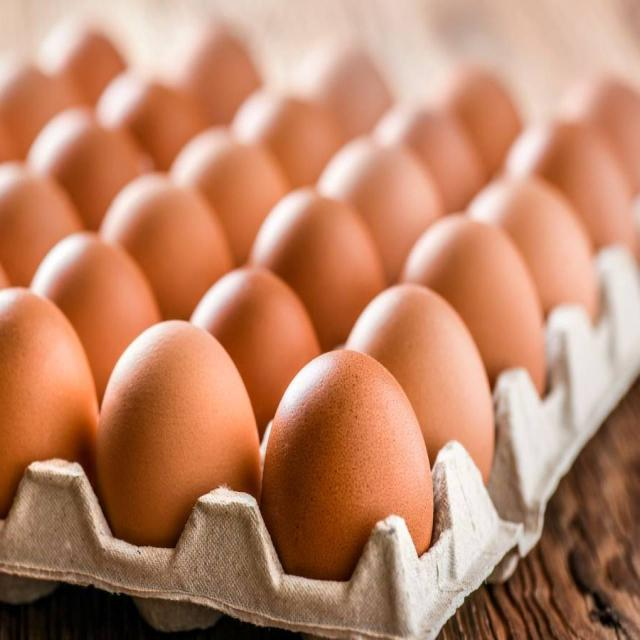huevos: (256, 346, 444, 578)
